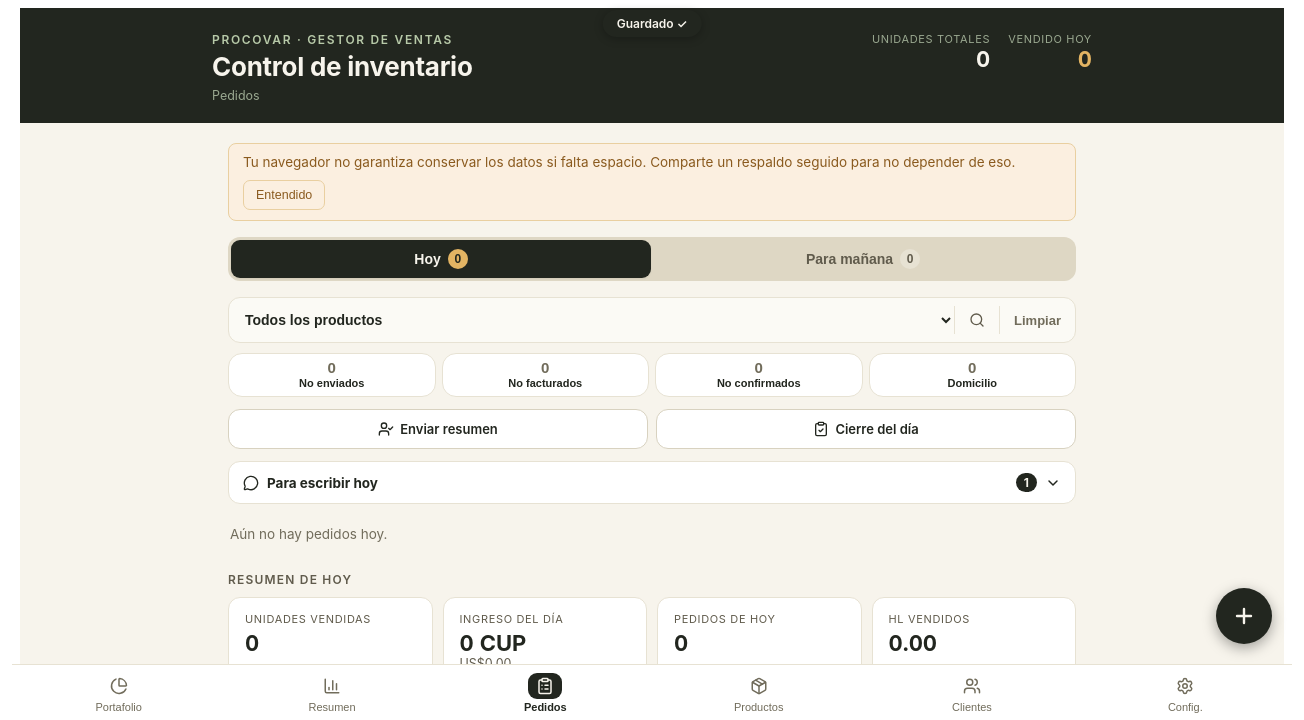
Test case: Para escribir hoy (tarjeta en Pedidos > Hoy) › sin teléfono no hay botón de escribir y lo dice
Click the button "Para escribir hoy 1" at (322, 482), box [229,462,1075,503]
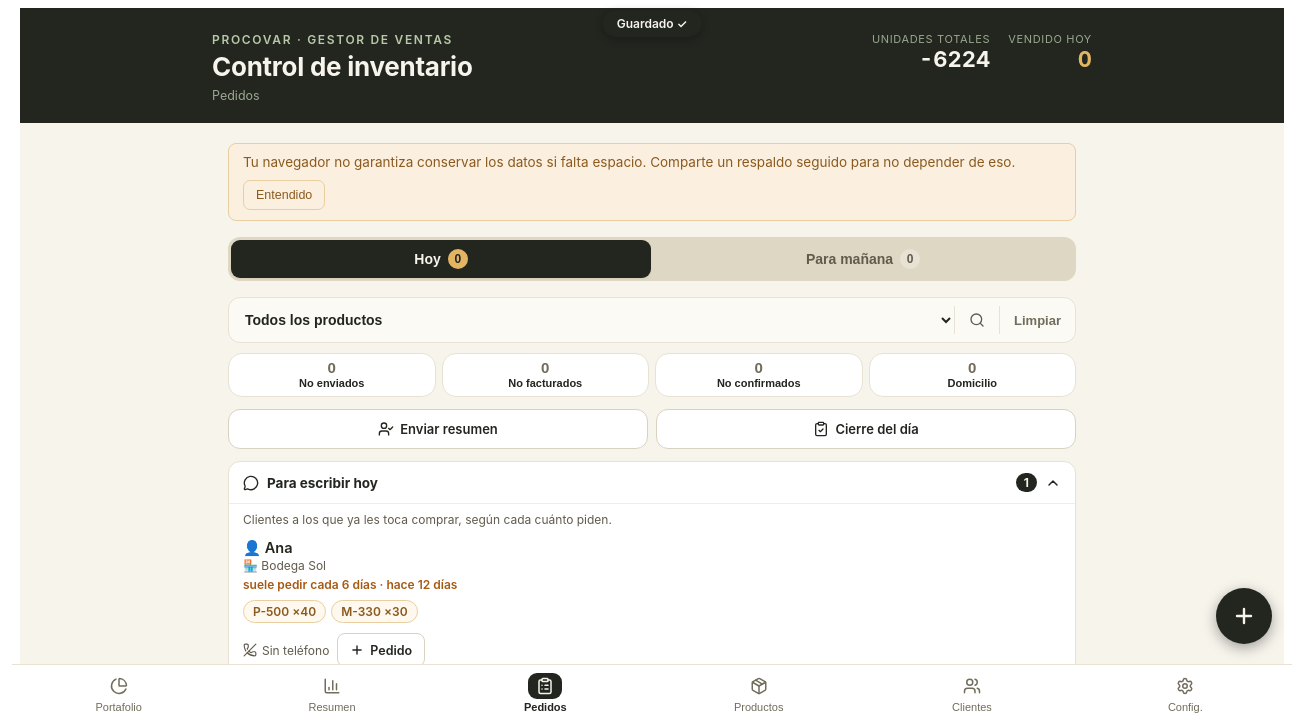
Check: the text "Sin teléfono" is shown, box [243,642,329,658]
